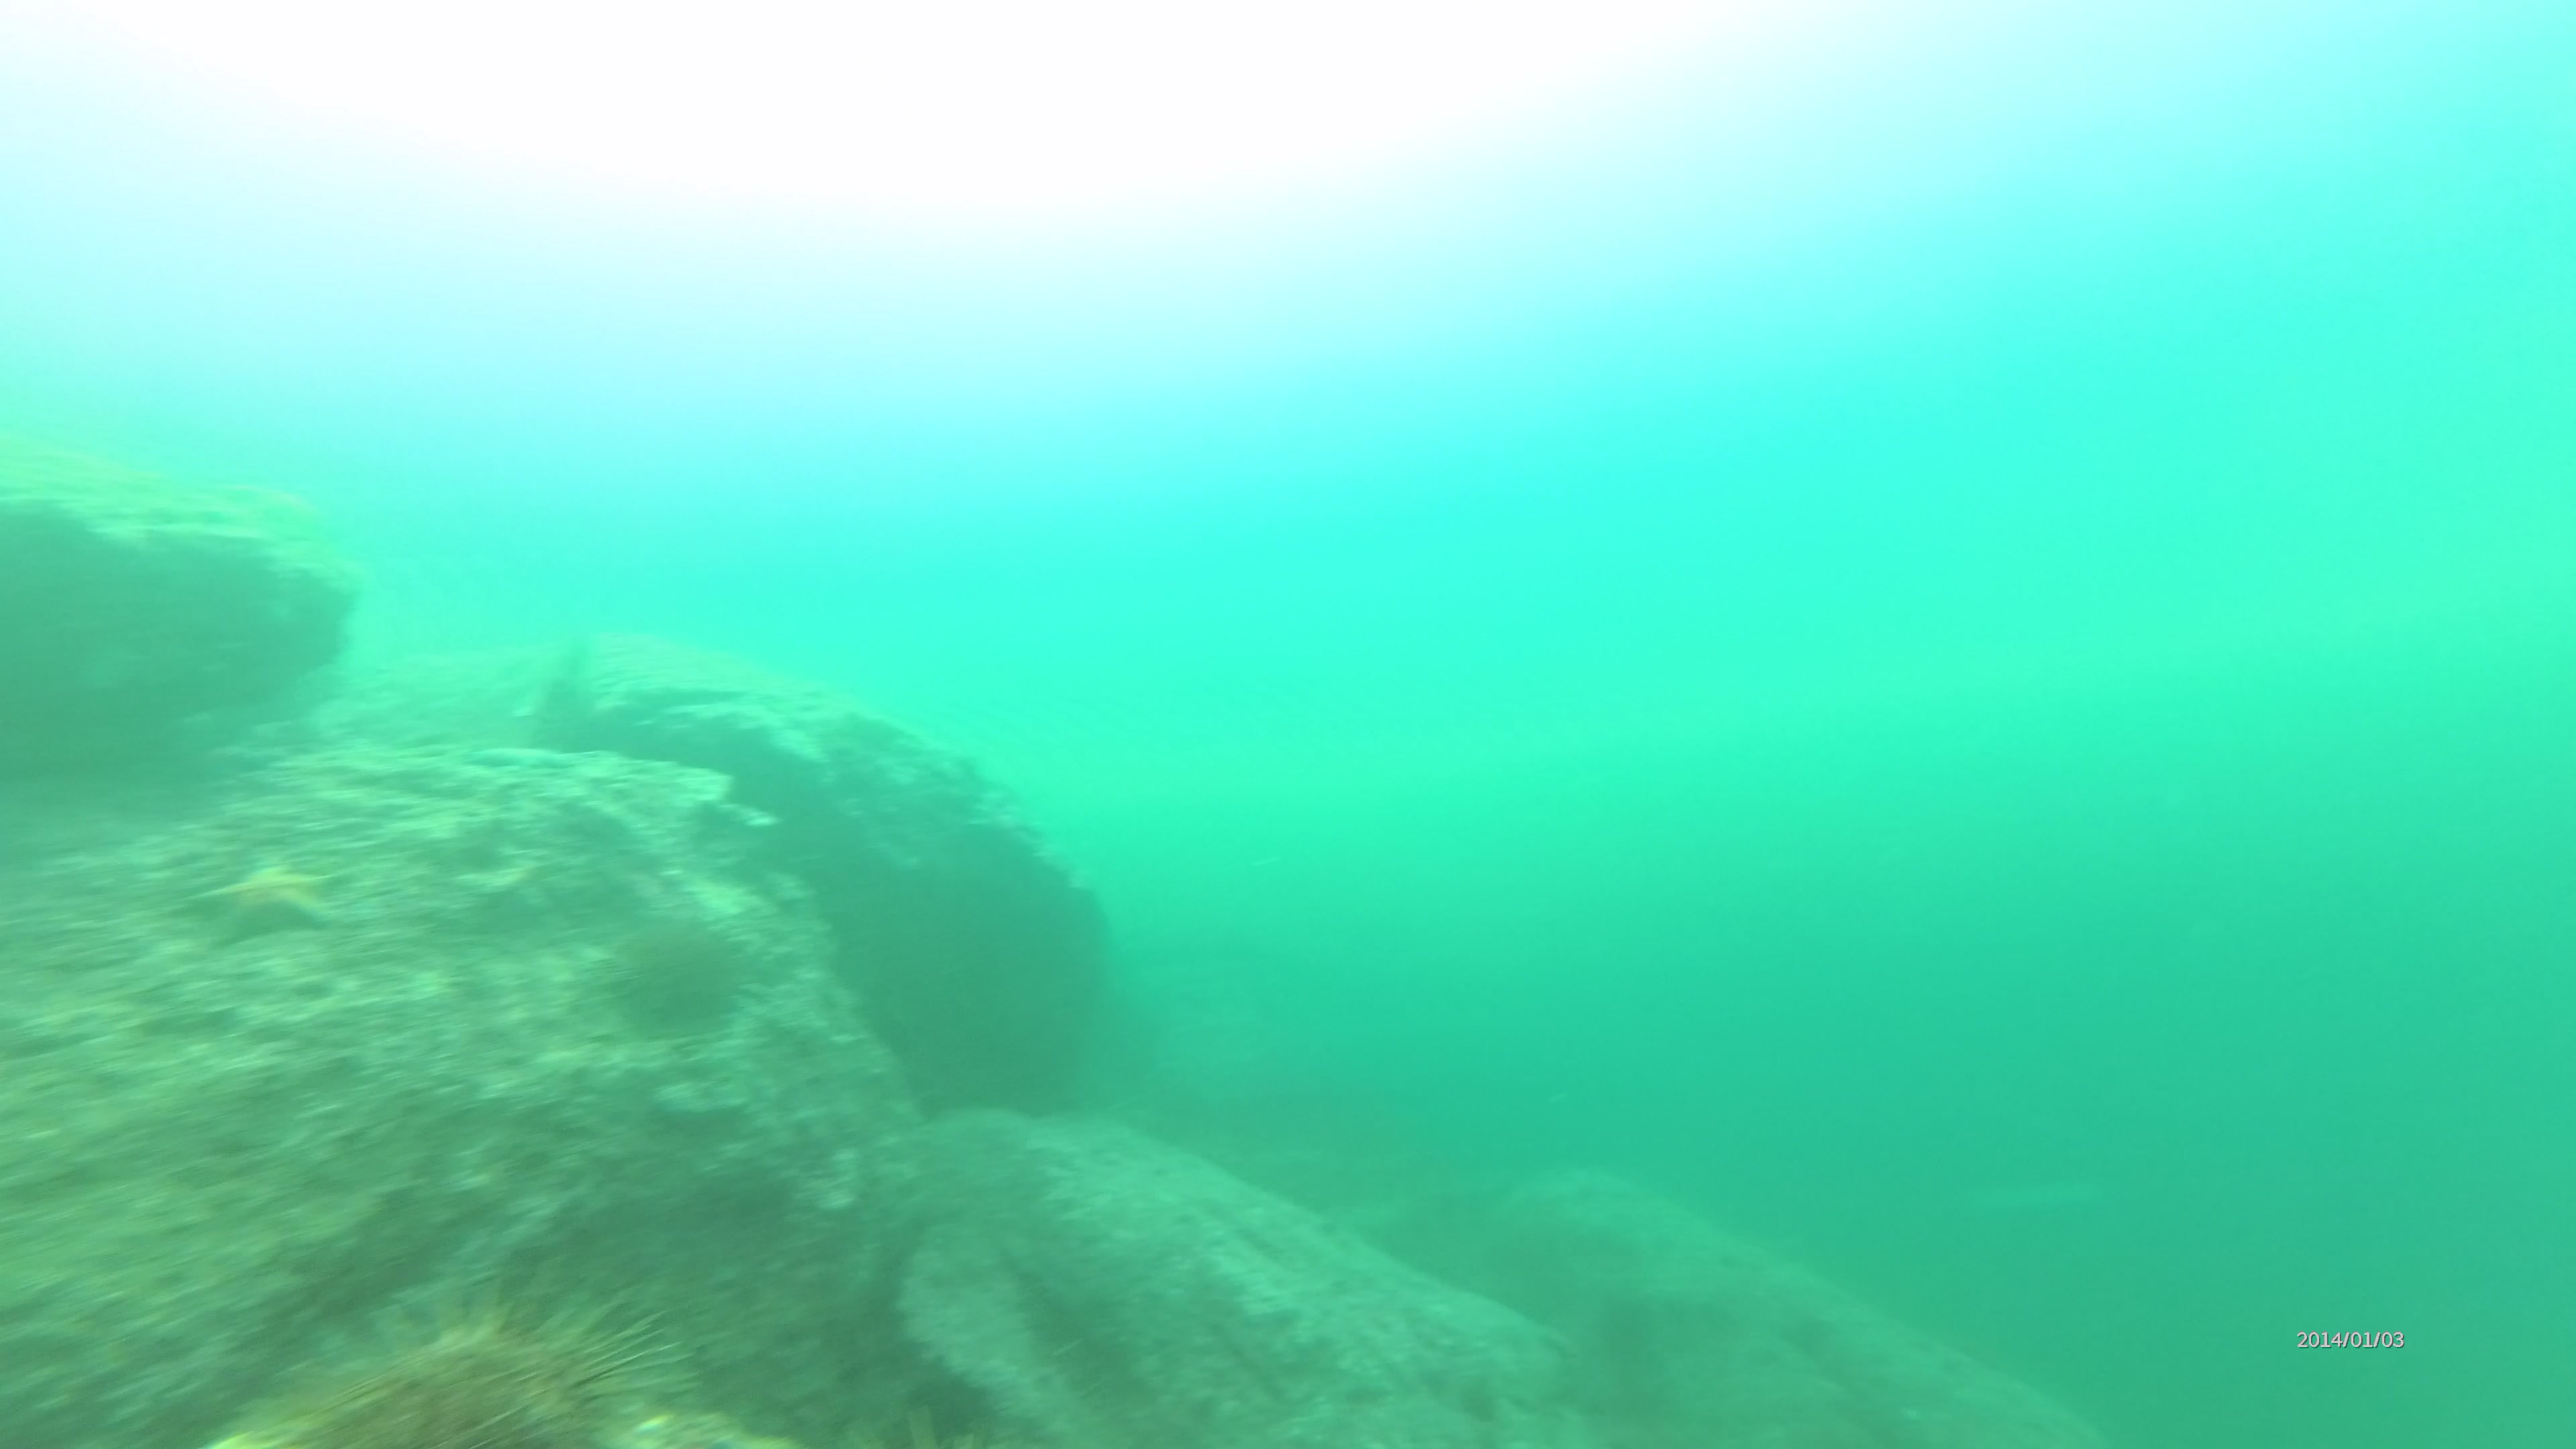echinus: (237, 1302, 701, 1449), (616, 918, 752, 1037)
starfish: (191, 853, 341, 947)
